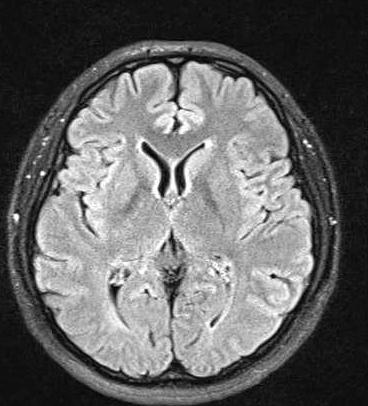Normal_Brain: (1, 1, 368, 406)
